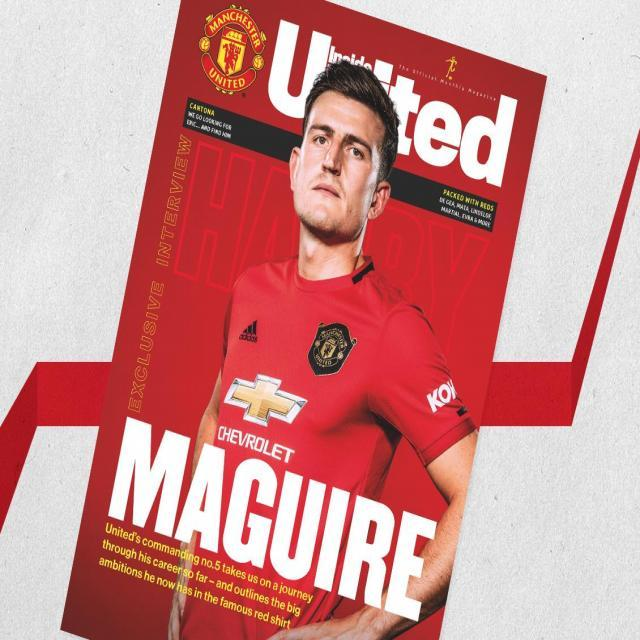Adidas: (237, 317, 260, 342)
Chevrolet: (218, 372, 308, 464)
Kohler: (426, 378, 458, 414)
